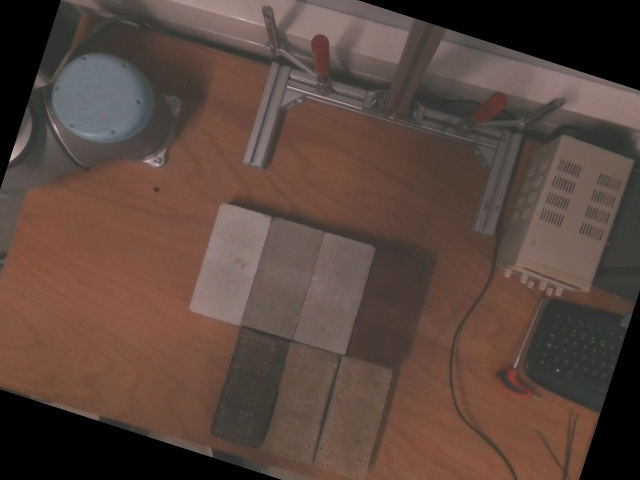brick: (260, 346, 341, 467), (191, 204, 271, 325), (243, 220, 323, 341), (294, 235, 374, 356), (313, 361, 393, 479)
